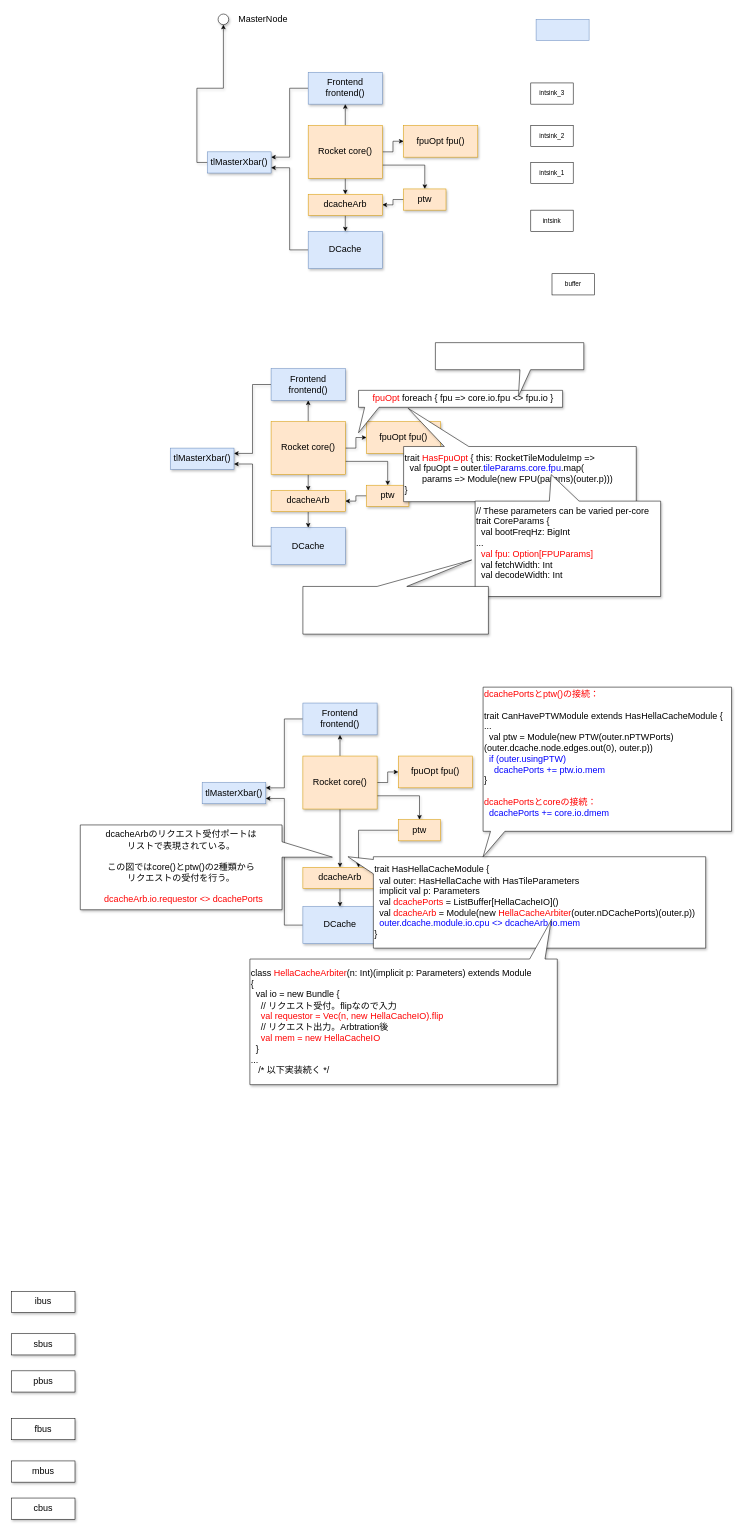
This 744x1532 diagram has some shape labels left out. Each missing label, with the centre of its shape:
intXbar(): point (562, 30)
ここから先はRocketのConfigと戯れることになるのでさらにややこしい。: point (396, 597)
信号を接続するChiselの接続演算子 (!=じゃないよ): point (510, 370)
